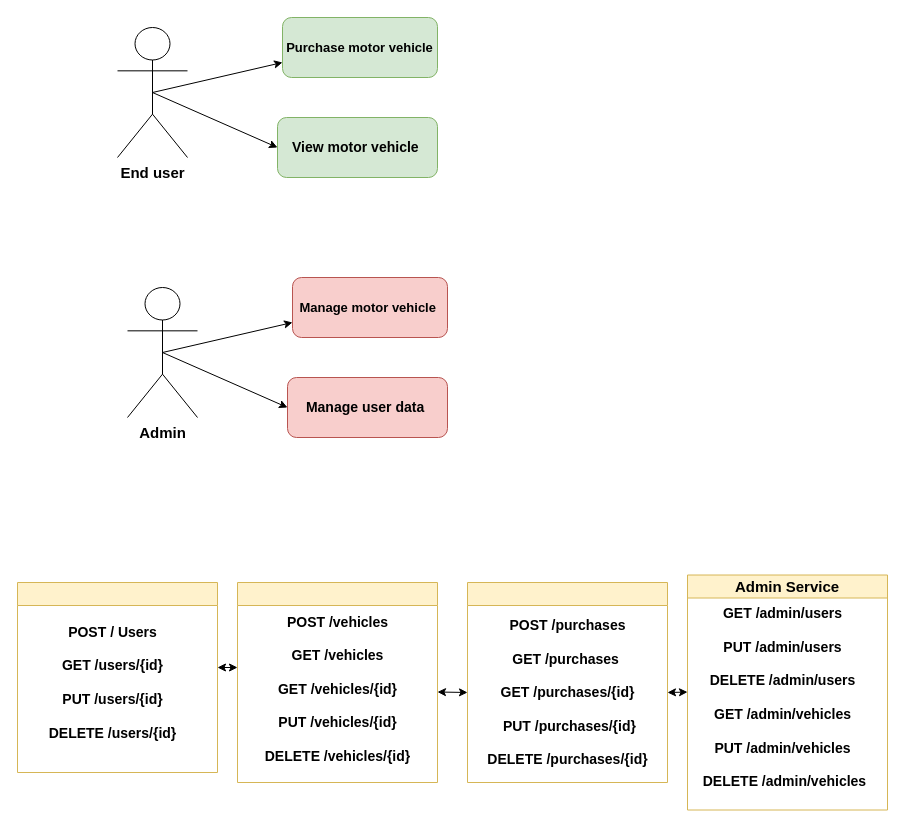
Some shapes in this 905 by 828 pixel diagram are drawn without their labels. Each missing label, with the box of its shape:
Purchase Service: (466, 582, 668, 782)
User Service: (16, 582, 218, 772)
Vehicle Service: (236, 582, 438, 782)
